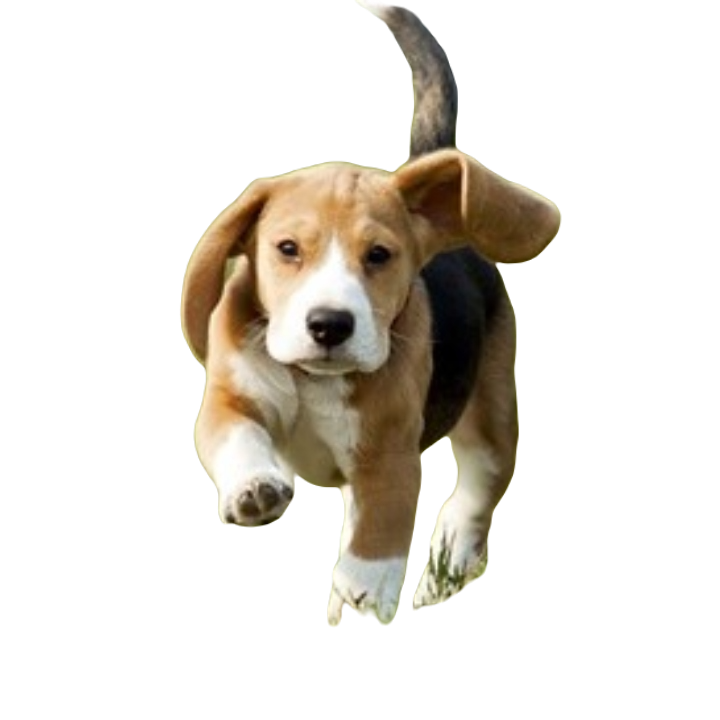Dog: (186, 0, 562, 627)
